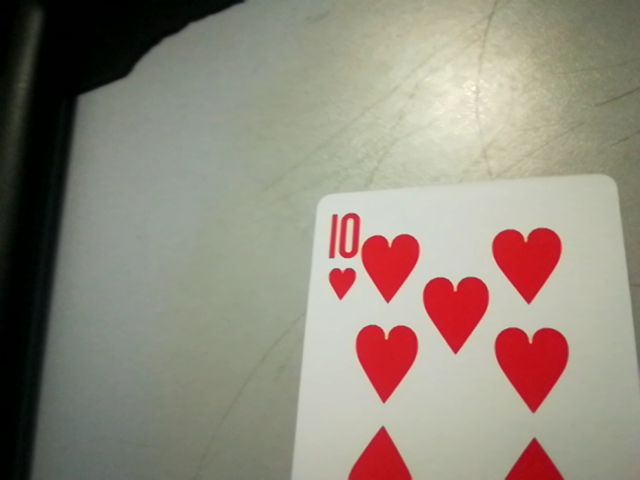hx 10: (314, 205, 363, 304)
